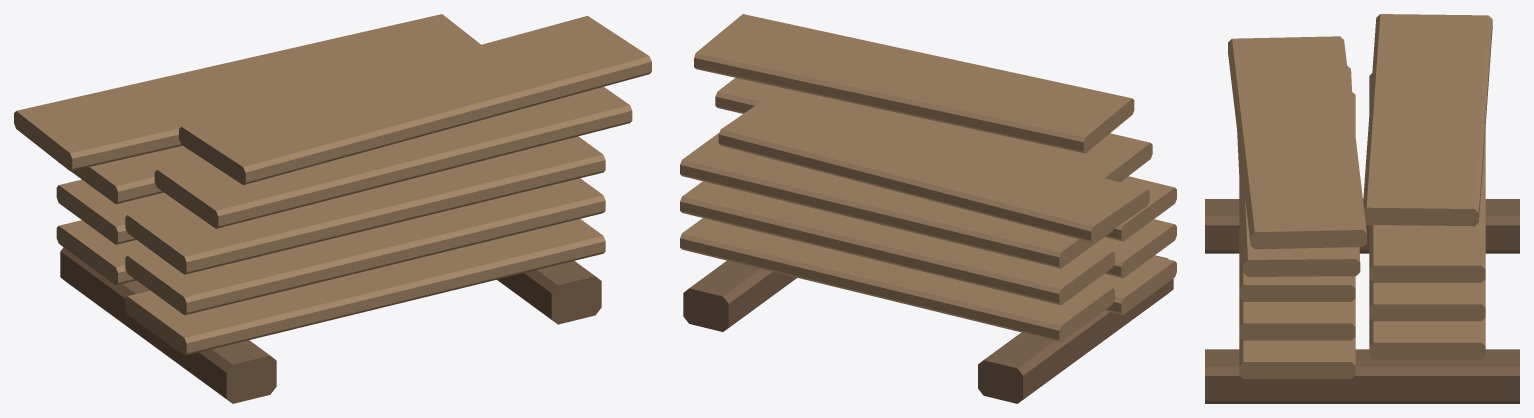
Rendered from planks_pile.glb.
3 views of the same model, side by side, from view 1: azimuth 30°, elevation 25°; view 2: azimuth 150°, elevation 25°; view 3: azimuth 270°, elevation 25° (orthographic). The views are drawn at different scales.
Visible parts, largest first — view 1: planks_pile; view 2: planks_pile; view 3: planks_pile.
Part boxes in pixels (x1,y1,x2,y2): planks_pile: [14, 14, 651, 403]; planks_pile: [680, 14, 1176, 403]; planks_pile: [1205, 14, 1519, 403].
Size of the model in its own units: 1.64 by 0.6735 by 0.92.
